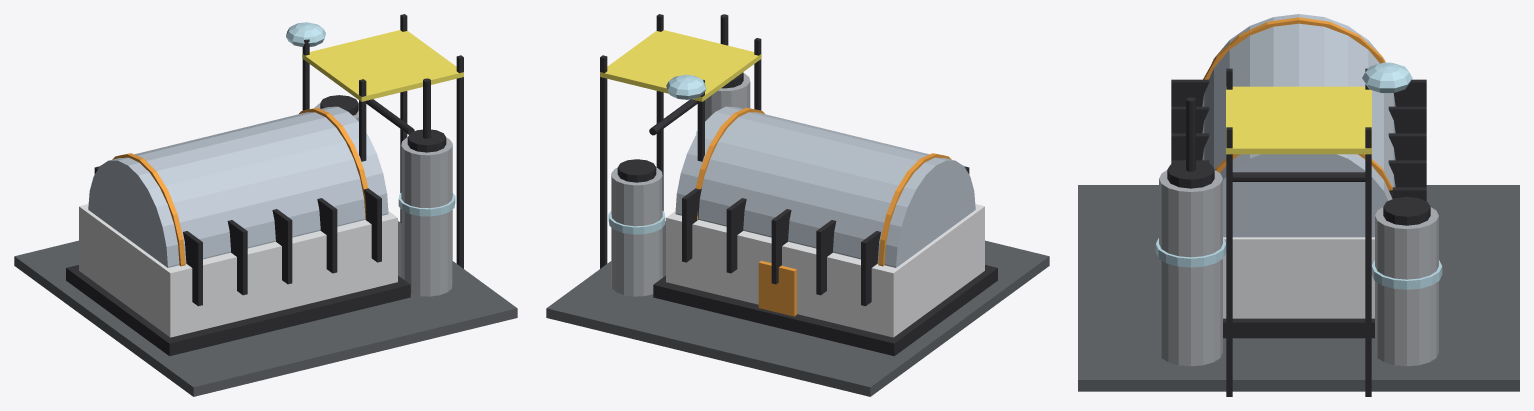
Rendered from SM_Hero_Farm.glb.
3 renders of one model, left to right at view 1: azimuth 30°, elevation 25°; view 2: azimuth 150°, elevation 25°; view 3: azimuth 270°, elevation 25°, orthographic. The views are drawn at different scales.
Parts seen in each view (by area): view 1: SM_Hero_Farm; view 2: SM_Hero_Farm; view 3: SM_Hero_Farm.
Boxes of the visible parts, box(x1,y1,x2,y2) form: SM_Hero_Farm: box(14, 14, 517, 396); SM_Hero_Farm: box(546, 14, 1049, 396); SM_Hero_Farm: box(1078, 14, 1519, 396).
Bounding box in the file's own units: 5.75 × 3.71 × 5.4.
